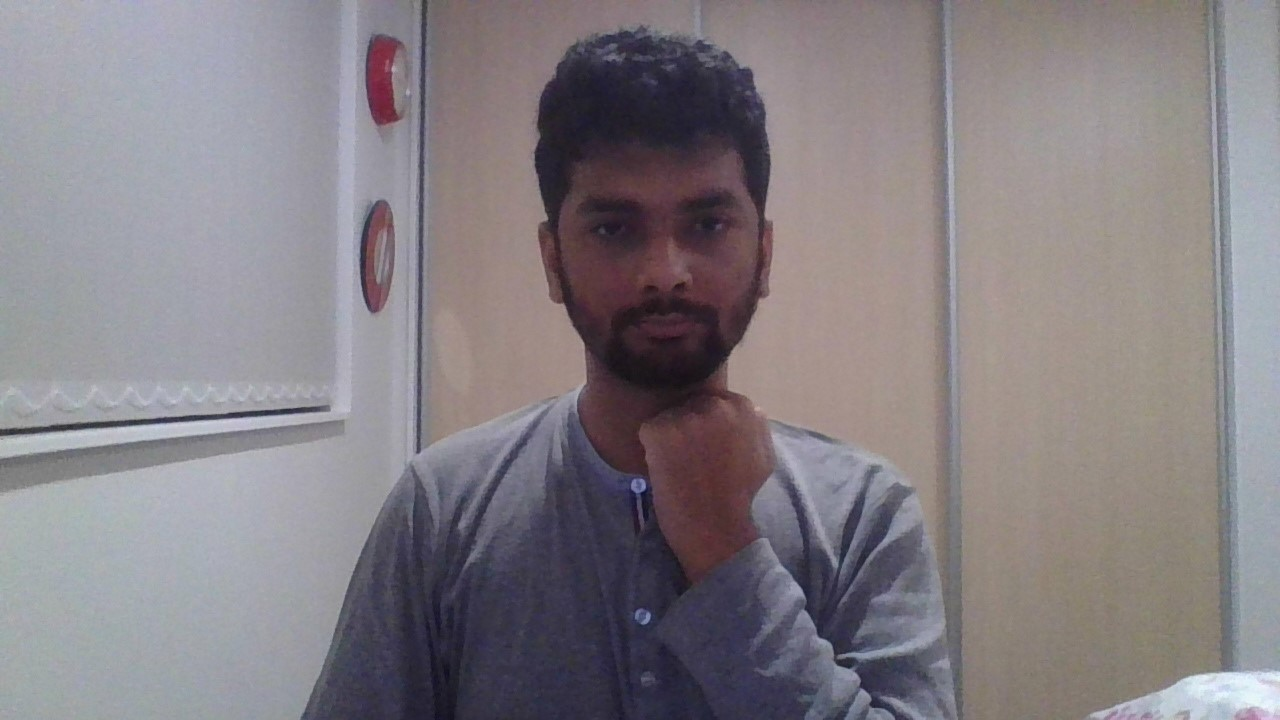day: (637, 390, 776, 587)
